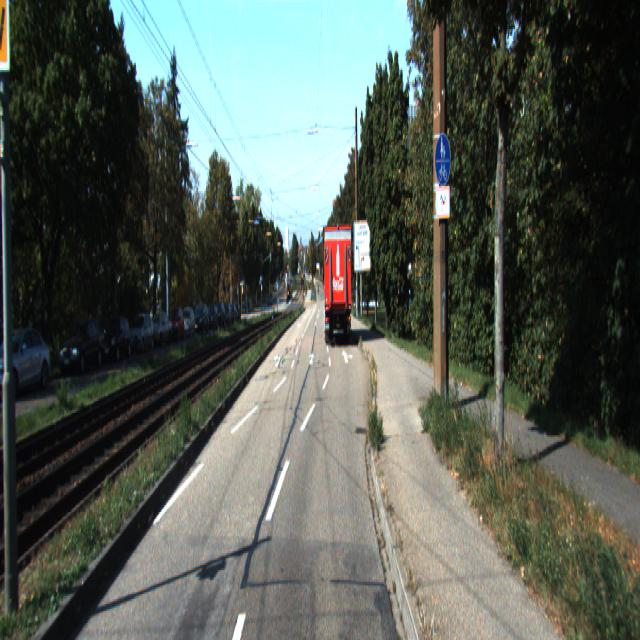Car: (0, 325, 54, 402), (322, 220, 354, 347), (58, 315, 106, 374), (100, 315, 132, 364), (127, 310, 155, 352), (166, 304, 186, 340)
